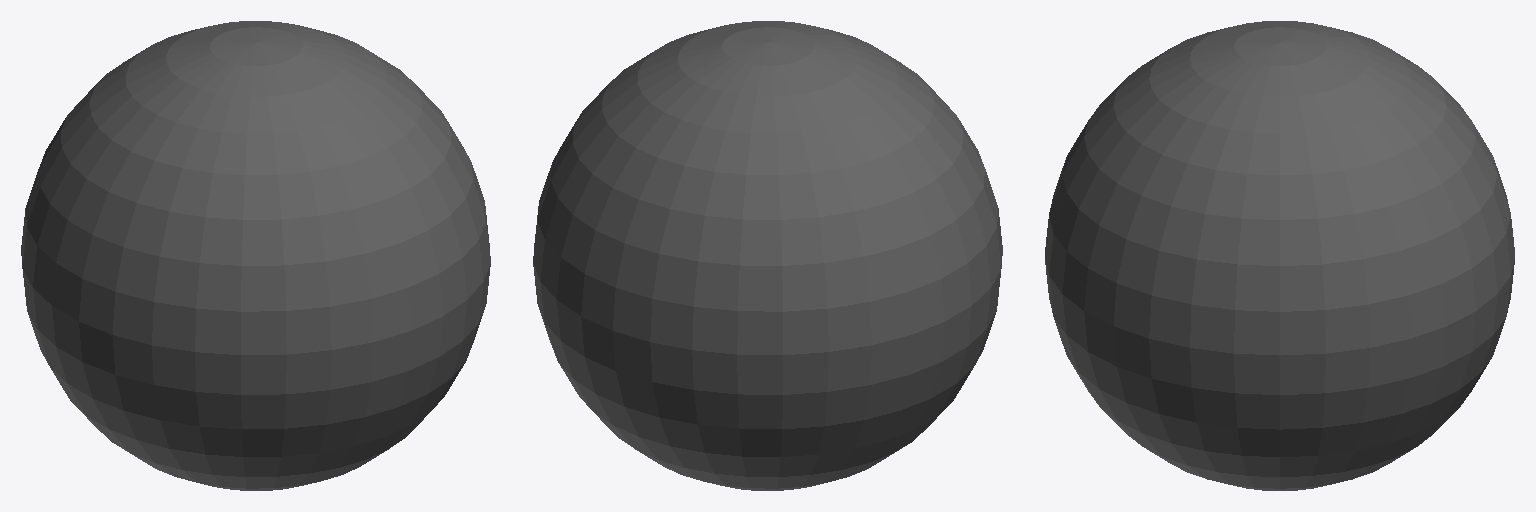
File: mercury.obj
3 views of the same model, side by side, from view 1: azimuth 30°, elevation 25°; view 2: azimuth 150°, elevation 25°; view 3: azimuth 270°, elevation 25° (orthographic).
Parts seen in each view (by area): view 1: Sphere; view 2: Sphere; view 3: Sphere.
Part boxes in pixels (bbox=[...]): Sphere: bbox=[21, 21, 490, 490]; Sphere: bbox=[533, 21, 1002, 490]; Sphere: bbox=[1045, 21, 1514, 490].
Size of the model in its own units: 11.38 by 11.38 by 11.38.